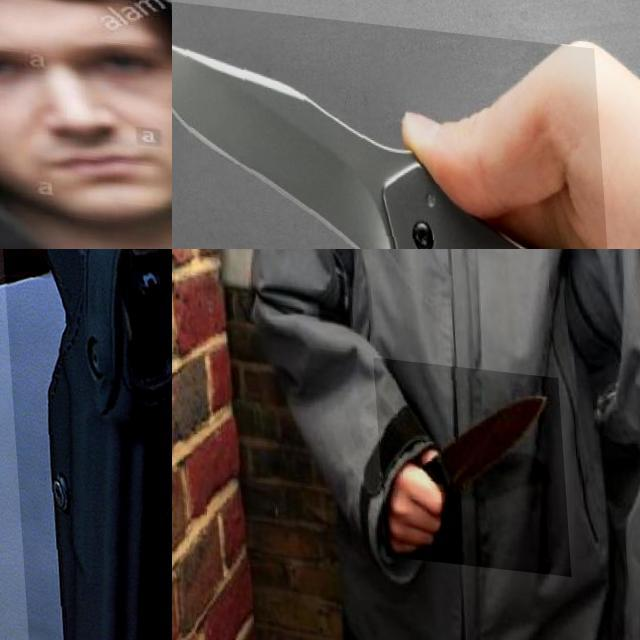-: (172, 0, 615, 249), (369, 352, 564, 567)
gun-knife-thesis - v11 Yolov5 augmented: (0, 249, 172, 640)
